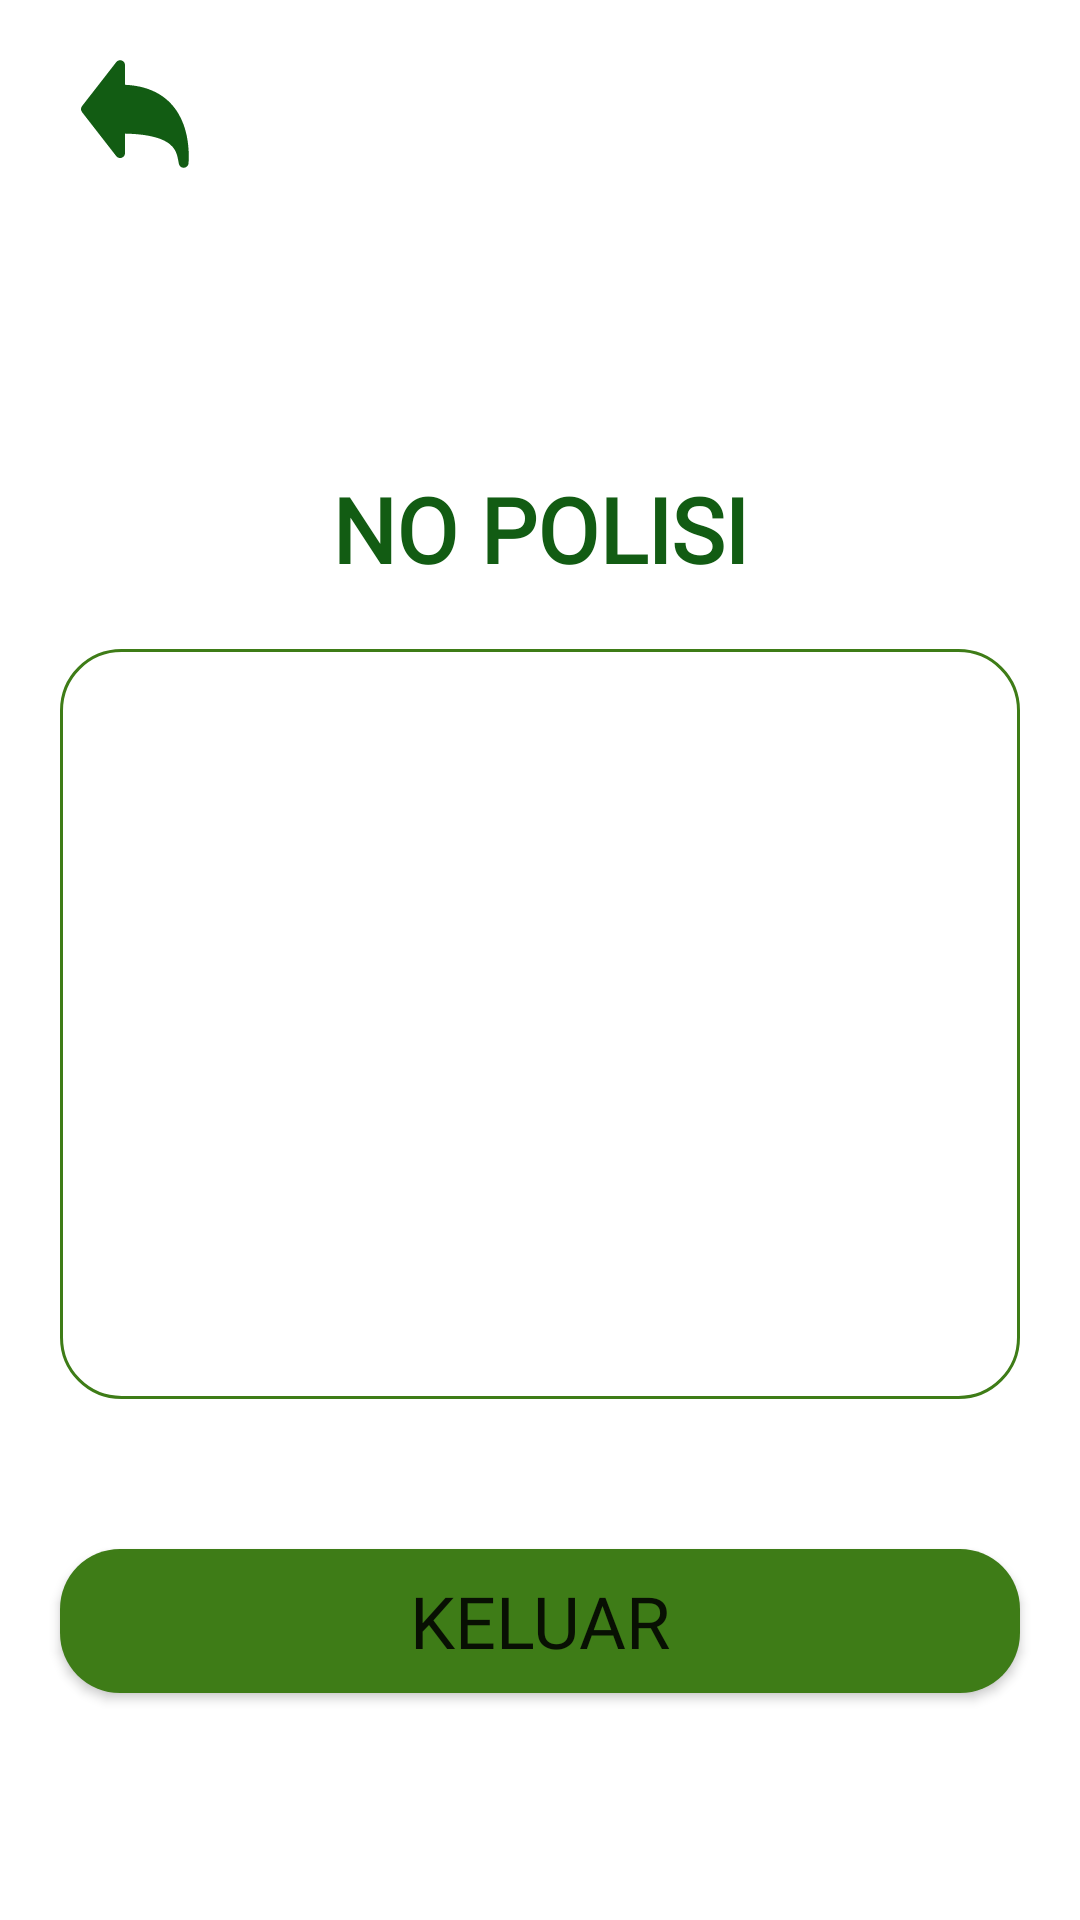

Icons on this 1080px×1920px Android screen, each with the point to tap as point (x, y):
backbutton: point (135, 114)
